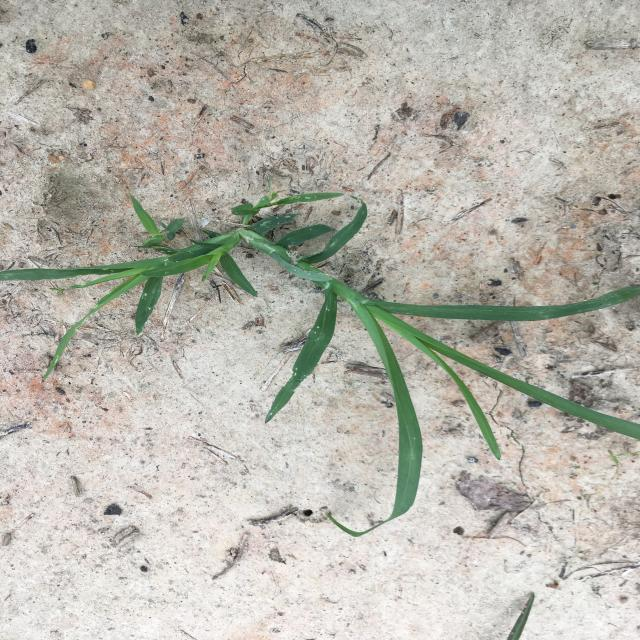Goosegrass: (0, 184, 638, 537)
